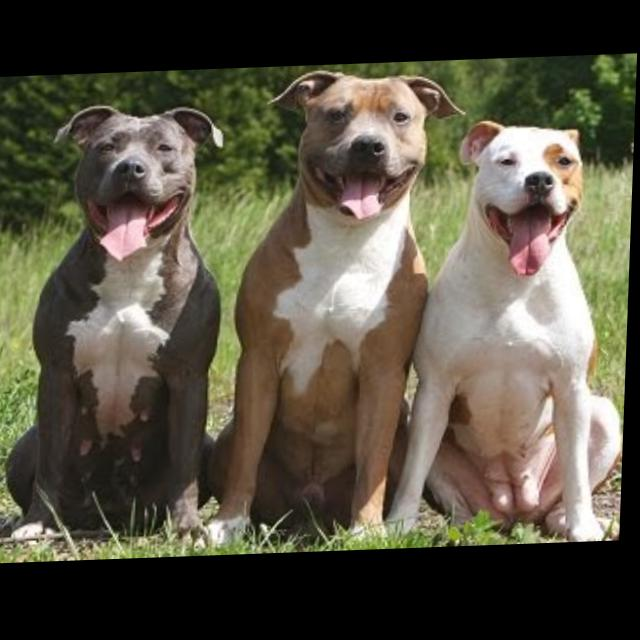am_pit_bull_terrier: (203, 67, 466, 553), (387, 117, 637, 553), (5, 100, 230, 550)
